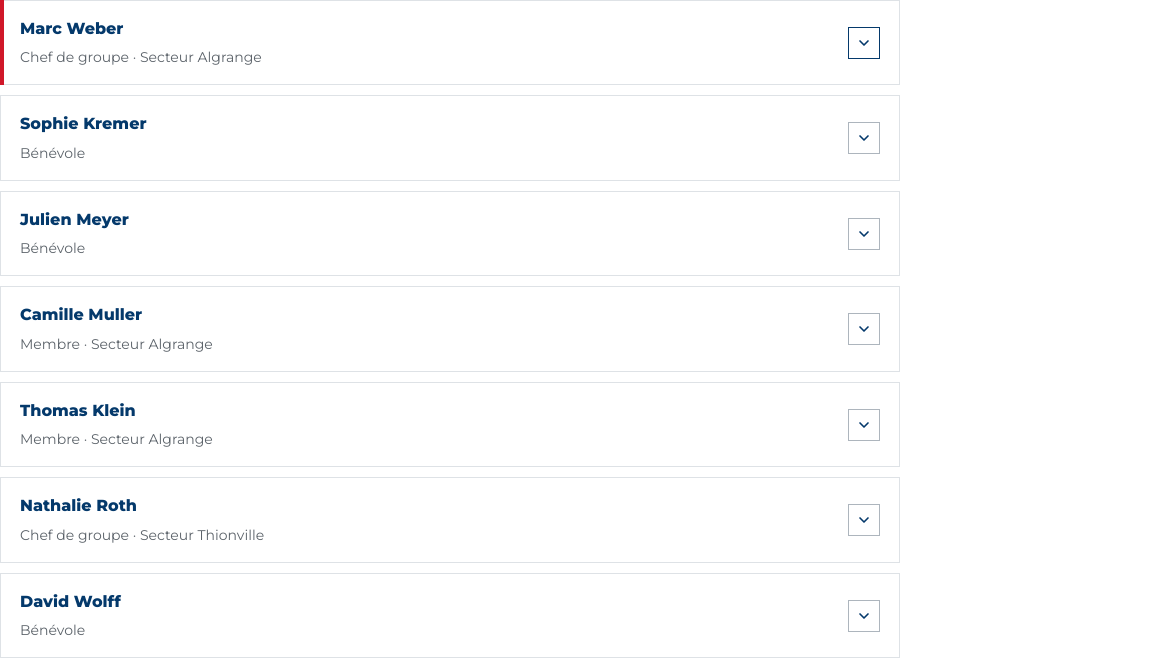
Scenario: MembersAdminPage › asks the Super admin for the Secteur of a new Admin
Click the button "Sophie Kremer Bénévole". click: (83, 124)
box: [20,112,832,165]
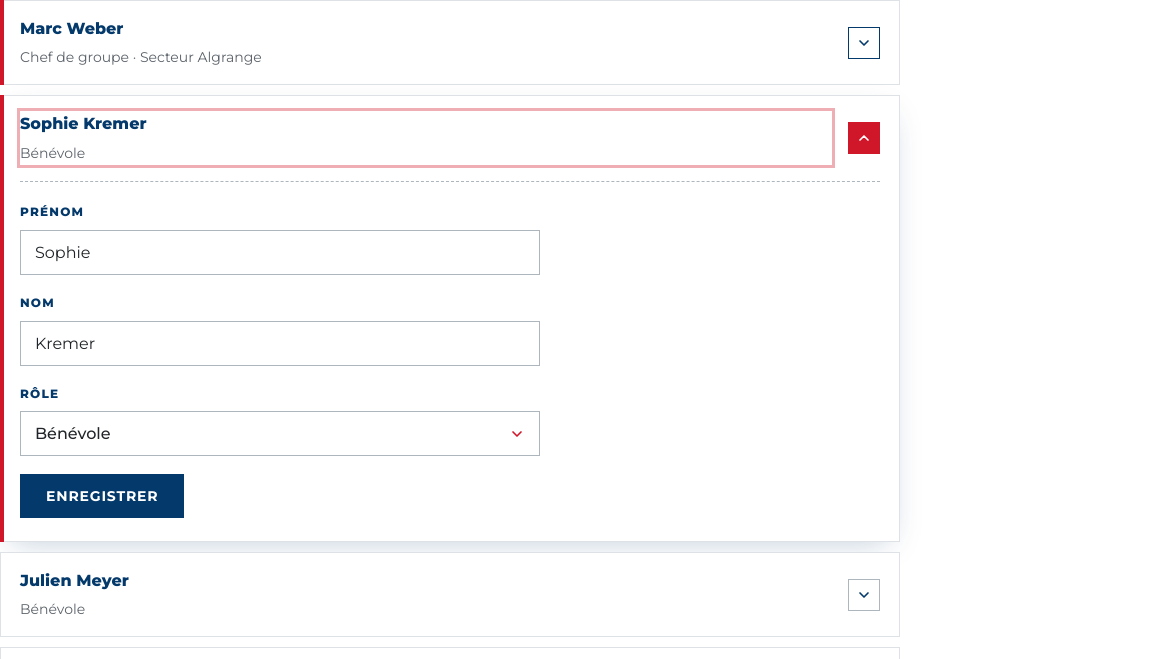
Select "Admin" in the dropdown labelled "Rôle". click: (280, 434)
box: [20,411,540,456]
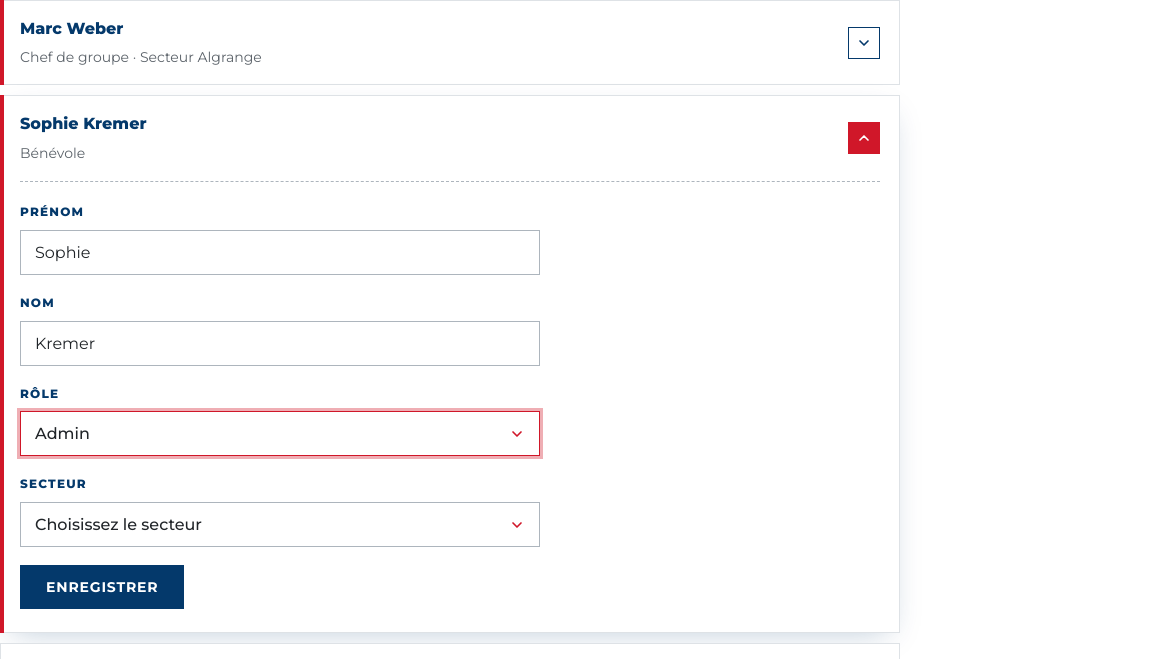
Select "Secteur Thionville" in the dropdown labelled "Secteur". click: (280, 525)
box: [20,502,540,547]
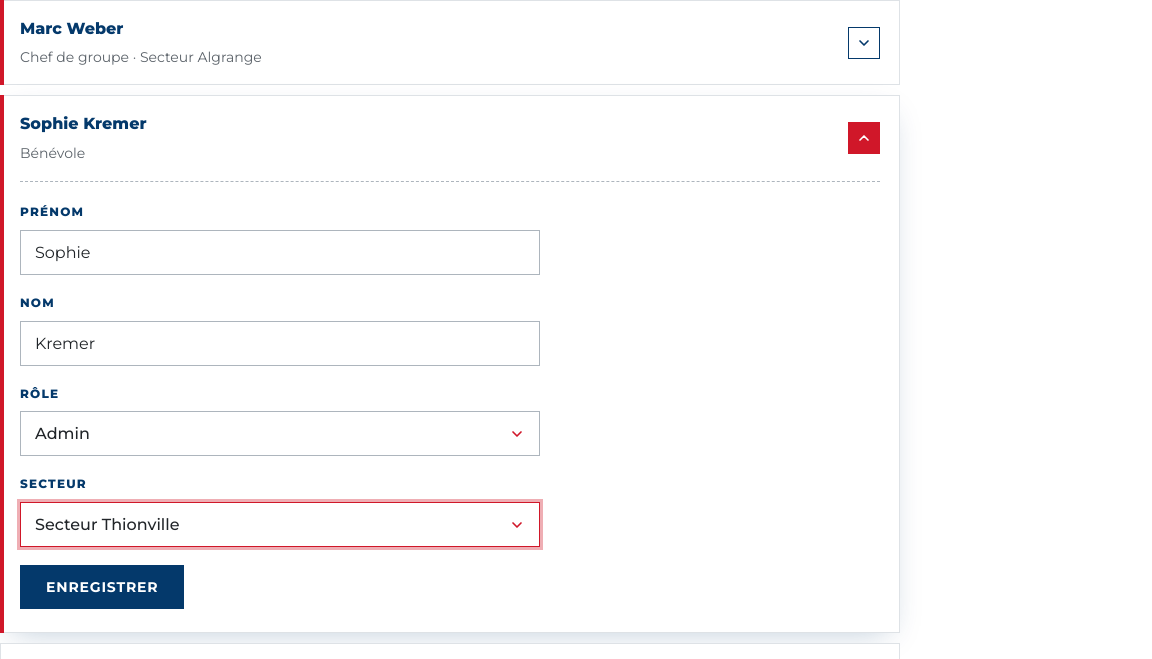
Click the button "Enregistrer". click: (102, 587)
box: [20,565,184,609]
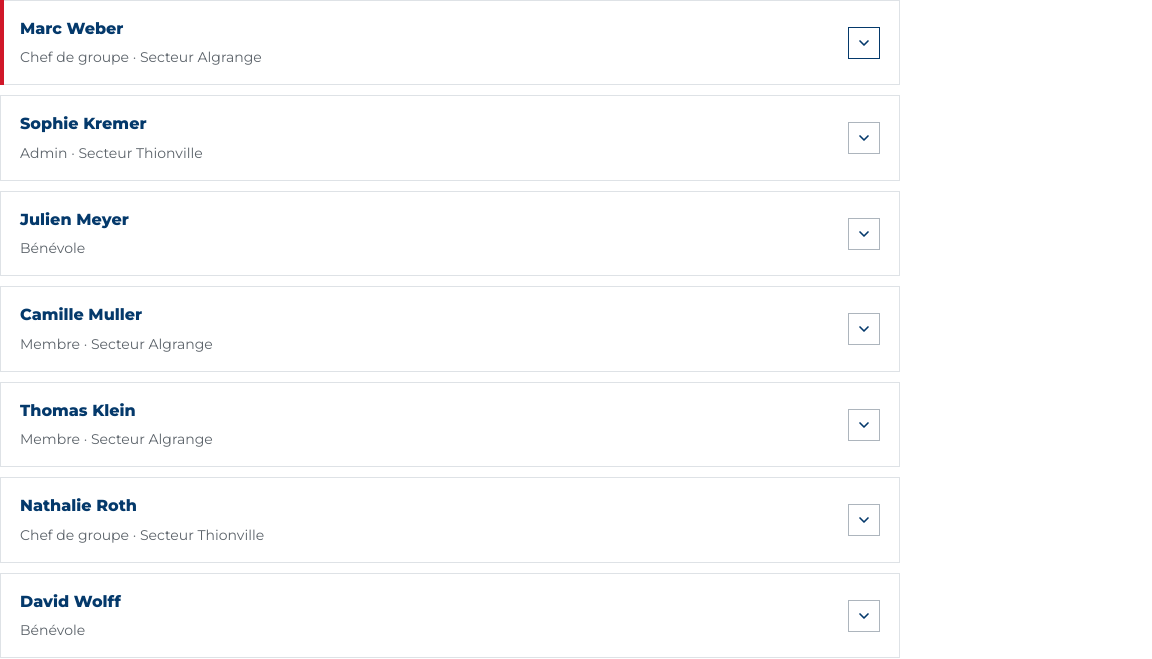
Expected: the button "Sophie Kremer Admin · Secteur Thionville" is shown, [20,112,832,165]
